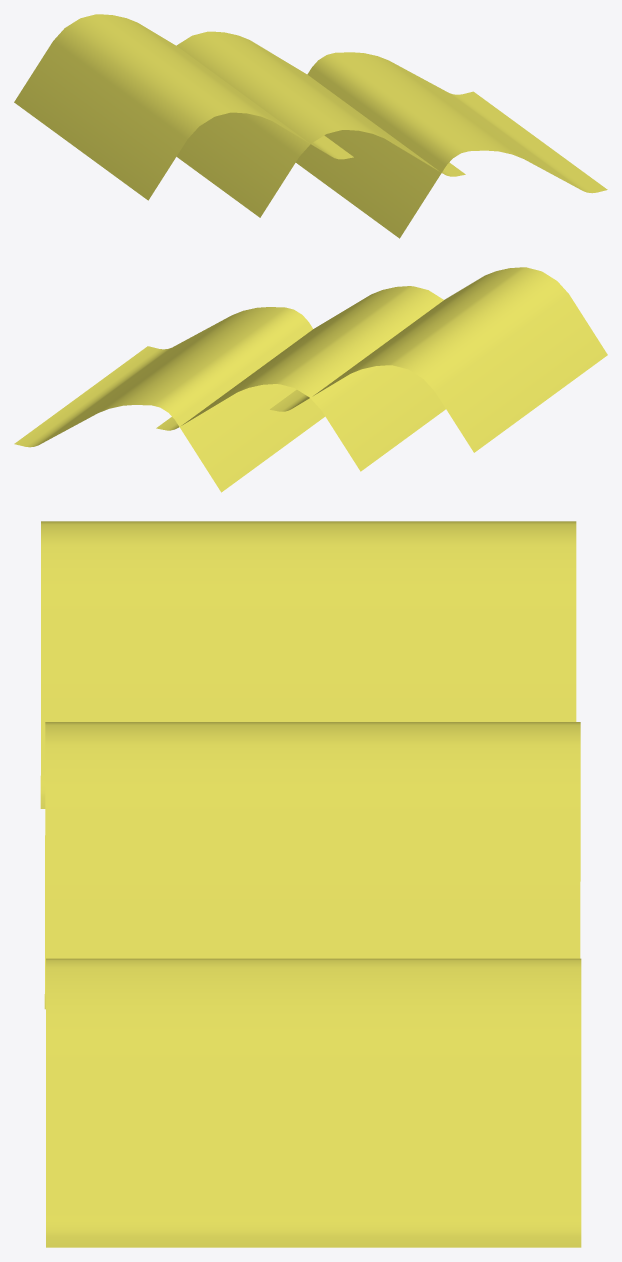
Rendered from TestDune.fbx.
3 renders of one model, top to bottom at view 1: azimuth 30°, elevation 25°; view 2: azimuth 150°, elevation 25°; view 3: azimuth 270°, elevation 25°, orthographic. The views are drawn at different scales.
Parts seen in each view (by area): view 1: Testdune; view 2: Testdune; view 3: Testdune.
Part boxes in pixels (bbox=[...]): Testdune: bbox=[14, 14, 607, 238]; Testdune: bbox=[14, 267, 607, 492]; Testdune: bbox=[40, 521, 581, 1247].
Size of the model in its own units: 4939 by 1747 by 2520.
